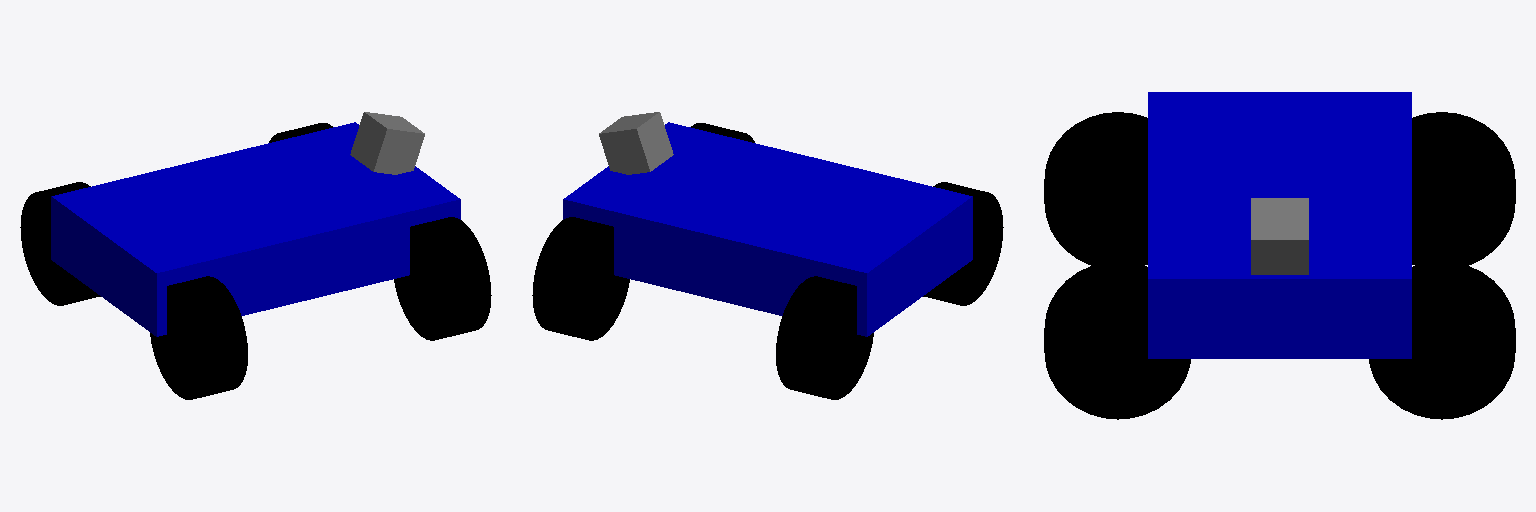
The robot description file, URDF, robot "my_car":
<?xml version="1.0"?>
<robot name="my_car">

  <!-- ── MATERIALS ───────────────────────────────────────── -->
  <material name="blue">
    <color rgba="0.0 0.0 0.8 1.0"/>
  </material>
  <material name="black">
    <color rgba="0.0 0.0 0.0 1.0"/>
  </material>
  <material name="grey">
    <color rgba="0.5 0.5 0.5 1.0"/>
  </material>

  <!-- ── BASE FOOTPRINT (required by ROS2) ───────────────── -->
  <link name="base_footprint">
    <!-- Gazebo physics can produce NaNs with massless links; keep this tiny but non-zero. -->
    <inertial>
      <mass value="0.001"/>
      <inertia ixx="1e-6" ixy="0" ixz="0"
               iyy="1e-6" iyz="0" izz="1e-6"/>
    </inertial>
  </link>

  <joint name="base_footprint_joint" type="fixed">
    <parent link="base_footprint"/>
    <child link="base_link"/>
    <!-- base_link is the chassis center; place it at wheel_radius (0.05) + chassis_half_height (0.03) -->
    <origin xyz="0 0 0.08"/>
  </joint>

  <!-- ── CHASSIS ──────────────────────────────────────────── -->
  <!-- 30cm long, 18cm wide, 6cm tall — typical 1/10 RC car -->
  <link name="base_link">
    <visual>
      <geometry>
        <box size="0.30 0.18 0.06"/>
      </geometry>
      <material name="blue"/>
    </visual>
    <collision>
      <geometry>
        <box size="0.30 0.18 0.06"/>
      </geometry>
    </collision>
    <inertial>
      <mass value="1.5"/>
      <inertia ixx="0.01" ixy="0" ixz="0"
               iyy="0.01" iyz="0" izz="0.02"/>
    </inertial>
  </link>

  <!-- Minimal steering wheel joint for gazebo_ros_ackermann_drive stability -->
  <link name="steering_wheel">
    <inertial>
      <mass value="0.01"/>
      <inertia ixx="1e-6" ixy="0" ixz="0"
               iyy="1e-6" iyz="0" izz="1e-6"/>
    </inertial>
  </link>

  <joint name="steering_wheel_joint" type="revolute">
    <parent link="base_link"/>
    <child link="steering_wheel"/>
    <origin xyz="0.10 0 0.08" rpy="0 0 0"/>
    <axis xyz="0 0 1"/>
    <limit lower="-7.85" upper="7.85" effort="1.0" velocity="10.0"/>
  </joint>

  <!-- ── REAR LEFT WHEEL ──────────────────────────────────── -->
  <link name="rear_left_wheel">
    <visual>
      <origin rpy="0 1.5708 0"/>
      <geometry>
        <cylinder radius="0.05" length="0.04"/>
      </geometry>
      <material name="black"/>
    </visual>
    <collision>
      <origin rpy="0 1.5708 0"/>
      <geometry>
        <cylinder radius="0.05" length="0.04"/>
      </geometry>
    </collision>
    <inertial>
      <mass value="0.1"/>
      <inertia ixx="0.0001" ixy="0" ixz="0"
               iyy="0.0001" iyz="0" izz="0.0002"/>
    </inertial>
  </link>

  <joint name="rear_left_wheel_joint" type="continuous">
    <parent link="base_link"/>
    <child link="rear_left_wheel"/>
    <!-- x=-0.12 (rear), y=+0.11 (left side), z=-0.03 (below chassis) -->
    <origin xyz="-0.12 0.11 -0.03" rpy="0 0 0"/>
    <axis xyz="1 0 0"/>
  </joint>

  <!-- ── REAR RIGHT WHEEL ─────────────────────────────────── -->
  <link name="rear_right_wheel">
    <visual>
      <origin rpy="0 1.5708 0"/>
      <geometry>
        <cylinder radius="0.05" length="0.04"/>
      </geometry>
      <material name="black"/>
    </visual>
    <collision>
      <origin rpy="0 1.5708 0"/>
      <geometry>
        <cylinder radius="0.05" length="0.04"/>
      </geometry>
    </collision>
    <inertial>
      <mass value="0.1"/>
      <inertia ixx="0.0001" ixy="0" ixz="0"
               iyy="0.0001" iyz="0" izz="0.0002"/>
    </inertial>
  </link>

  <joint name="rear_right_wheel_joint" type="continuous">
    <parent link="base_link"/>
    <child link="rear_right_wheel"/>
    <origin xyz="-0.12 -0.11 -0.03" rpy="0 0 0"/>
    <axis xyz="1 0 0"/>
  </joint>

  <!-- ── FRONT LEFT WHEEL (steerable) ────────────────────── -->
  <link name="front_left_steer">
    <inertial>
      <mass value="0.01"/>
      <inertia ixx="1e-6" ixy="0" ixz="0"
               iyy="1e-6" iyz="0" izz="1e-6"/>
    </inertial>
  </link>

  <!-- Steering joint rotates around Z (up axis) -->
  <joint name="front_left_steer_joint" type="revolute">
    <parent link="base_link"/>
    <child link="front_left_steer"/>
    <origin xyz="0.12 0.11 -0.03" rpy="0 0 0"/>
    <axis xyz="0 0 1"/>
    <limit lower="-0.6" upper="0.6" effort="5.0" velocity="3.0"/>
  </joint>

  <link name="front_left_wheel">
    <visual>
      <origin rpy="0 1.5708 0"/>
      <geometry>
        <cylinder radius="0.05" length="0.04"/>
      </geometry>
      <material name="black"/>
    </visual>
    <collision>
      <origin rpy="0 1.5708 0"/>
      <geometry>
        <cylinder radius="0.05" length="0.04"/>
      </geometry>
    </collision>
    <inertial>
      <mass value="0.1"/>
      <inertia ixx="0.0001" ixy="0" ixz="0"
               iyy="0.0001" iyz="0" izz="0.0002"/>
    </inertial>
  </link>

  <!-- Wheel spin joint rotates the wheel around its axle -->
  <joint name="front_left_wheel_spin_joint" type="continuous">
    <parent link="front_left_steer"/>
    <child link="front_left_wheel"/>
    <origin xyz="0 0 0" rpy="0 0 0"/>
    <axis xyz="1 0 0"/>
  </joint>

  <!-- ── FRONT RIGHT WHEEL (steerable) ───────────────────── -->
  <link name="front_right_steer">
    <inertial>
      <mass value="0.01"/>
      <inertia ixx="1e-6" ixy="0" ixz="0"
               iyy="1e-6" iyz="0" izz="1e-6"/>
    </inertial>
  </link>

  <joint name="front_right_steer_joint" type="revolute">
    <parent link="base_link"/>
    <child link="front_right_steer"/>
    <origin xyz="0.12 -0.11 -0.03" rpy="0 0 0"/>
    <axis xyz="0 0 1"/>
    <limit lower="-0.6" upper="0.6" effort="5.0" velocity="3.0"/>
  </joint>

  <link name="front_right_wheel">
    <visual>
      <origin rpy="0 1.5708 0"/>
      <geometry>
        <cylinder radius="0.05" length="0.04"/>
      </geometry>
      <material name="black"/>
    </visual>
    <collision>
      <origin rpy="0 1.5708 0"/>
      <geometry>
        <cylinder radius="0.05" length="0.04"/>
      </geometry>
    </collision>
    <inertial>
      <mass value="0.1"/>
      <inertia ixx="0.0001" ixy="0" ixz="0"
               iyy="0.0001" iyz="0" izz="0.0002"/>
    </inertial>
  </link>

  <joint name="front_right_wheel_spin_joint" type="continuous">
    <parent link="front_right_steer"/>
    <child link="front_right_wheel"/>
    <origin xyz="0 0 0" rpy="0 0 0"/>
    <axis xyz="1 0 0"/>
  </joint>

  <!-- ── CAMERA ───────────────────────────────────────────── -->
  <link name="camera_link">
    <visual>
      <geometry>
        <box size="0.04 0.04 0.04"/>
      </geometry>
      <material name="grey"/>
    </visual>
    <inertial>
      <mass value="0.05"/>
      <inertia ixx="0.0001" ixy="0" ixz="0"
               iyy="0.0001" iyz="0" izz="0.0001"/>
    </inertial>
  </link>

  <!-- Camera sits on top front of chassis, angled 20 degrees down -->
  <joint name="camera_joint" type="fixed">
    <parent link="base_link"/>
    <child link="camera_link"/>
    <origin xyz="0.13 0 0.05" rpy="0 0.349 0"/>
  </joint>

  <link name="camera_optical_frame">
    <!-- Also keep non-zero inertial for stability (no collision/visual needed). -->
    <inertial>
      <mass value="0.001"/>
      <inertia ixx="1e-6" ixy="0" ixz="0"
               iyy="1e-6" iyz="0" izz="1e-6"/>
    </inertial>
  </link>
  <joint name="camera_optical_joint" type="fixed">
    <parent link="camera_link"/>
    <child link="camera_optical_frame"/>
    <origin xyz="0 0 0" rpy="-1.5708 0 -1.5708"/>
  </joint>

  <!-- ── GAZEBO PLUGINS ────────────────────────────────────── -->

  <!-- Planar move — stable kinematic control on the XY plane via /cmd_vel -->
  <gazebo>
    <plugin name="gazebo_ros_planar_move"
            filename="libgazebo_ros_planar_move.so">
      <ros>
        <remapping>cmd_vel:=cmd_vel</remapping>
        <remapping>odom:=odom</remapping>
      </ros>

      <update_rate>100</update_rate>
      <publish_rate>30</publish_rate>

      <publish_odom>true</publish_odom>
      <publish_odom_tf>true</publish_odom_tf>

      <odometry_frame>odom</odometry_frame>
      <robot_base_frame>base_footprint</robot_base_frame>

      <covariance_x>0.0001</covariance_x>
      <covariance_y>0.0001</covariance_y>
      <covariance_yaw>0.01</covariance_yaw>
    </plugin>
  </gazebo>

  <!-- Camera sensor — publishes to /camera/image_raw -->
  <gazebo reference="camera_link">
    <sensor type="camera" name="front_camera">
      <update_rate>30</update_rate>
      <camera name="front_camera">
        <horizontal_fov>1.3962634</horizontal_fov>
        <image>
          <width>640</width>
          <height>480</height>
          <format>R8G8B8</format>
        </image>
        <clip>
          <near>0.02</near>
          <far>300</far>
        </clip>
      </camera>
      <plugin name="camera_controller"
              filename="libgazebo_ros_camera.so">
        <frame_name>camera_optical_frame</frame_name>
        <image_topic_name>/camera/image_raw</image_topic_name>
        <camera_info_topic_name>/camera/camera_info</camera_info_topic_name>
      </plugin>
    </sensor>
  </gazebo>

  <!-- Wheel friction — important for realistic driving -->
  <gazebo reference="rear_left_wheel">
    <mu1>1.0</mu1>
    <mu2>1.0</mu2>
  </gazebo>
  <gazebo reference="rear_right_wheel">
    <mu1>1.0</mu1>
    <mu2>1.0</mu2>
  </gazebo>
  <gazebo reference="front_left_wheel">
    <mu1>0.5</mu1>
    <mu2>0.5</mu2>
  </gazebo>
  <gazebo reference="front_right_wheel">
    <mu1>0.5</mu1>
    <mu2>0.5</mu2>
  </gazebo>

<gazebo reference="base_link">
    <sensor name="car_imu" type="imu">
      <always_on>true</always_on>
      <update_rate>20</update_rate> 
      <plugin name="imu_plugin" filename="libgazebo_ros_imu_sensor.so">
        <ros>
          <remapping>~/out:=/imu</remapping>
        </ros>
        <initial_orientation_as_reference>false</initial_orientation_as_reference>
      </plugin>
    </sensor>
  </gazebo>

</robot>

--- Render facts (derived) ---
Views: 3 orthographic renders of the robot side by side, from view 1: azimuth 30°, elevation 25°; view 2: azimuth 150°, elevation 25°; view 3: azimuth 270°, elevation 25°.
Robot: my_car — 11 links, 10 joints (3 revolute, 4 continuous, 3 fixed); root link base_footprint; default pose: every joint at zero.
Visible links, largest first — view 1: base_link, rear_right_wheel, front_right_wheel, rear_left_wheel, camera_link; view 2: base_link, rear_left_wheel, front_left_wheel, rear_right_wheel, camera_link; view 3: base_link, front_left_wheel, front_right_wheel, rear_left_wheel, rear_right_wheel, camera_link.
Link boxes in pixels (<box>): base_link: <box>51,122,460,336</box>; rear_right_wheel: <box>150,276,247,399</box>; front_right_wheel: <box>394,217,491,340</box>; rear_left_wheel: <box>20,182,100,305</box>; camera_link: <box>350,112,424,174</box>; base_link: <box>563,122,972,336</box>; rear_left_wheel: <box>776,276,873,399</box>; front_left_wheel: <box>532,217,629,340</box>; rear_right_wheel: <box>923,182,1003,305</box>; camera_link: <box>599,112,673,174</box>; base_link: <box>1148,92,1411,358</box>; front_left_wheel: <box>1369,261,1515,419</box>; front_right_wheel: <box>1044,261,1190,419</box>; rear_left_wheel: <box>1412,112,1515,265</box>; rear_right_wheel: <box>1044,112,1147,265</box>; camera_link: <box>1251,198,1308,274</box>.
Size in the robot's own frame: 0.3056 by 0.32 by 0.1556 metres.
Geometry: primitives only (box / cylinder / sphere), no mesh files.
